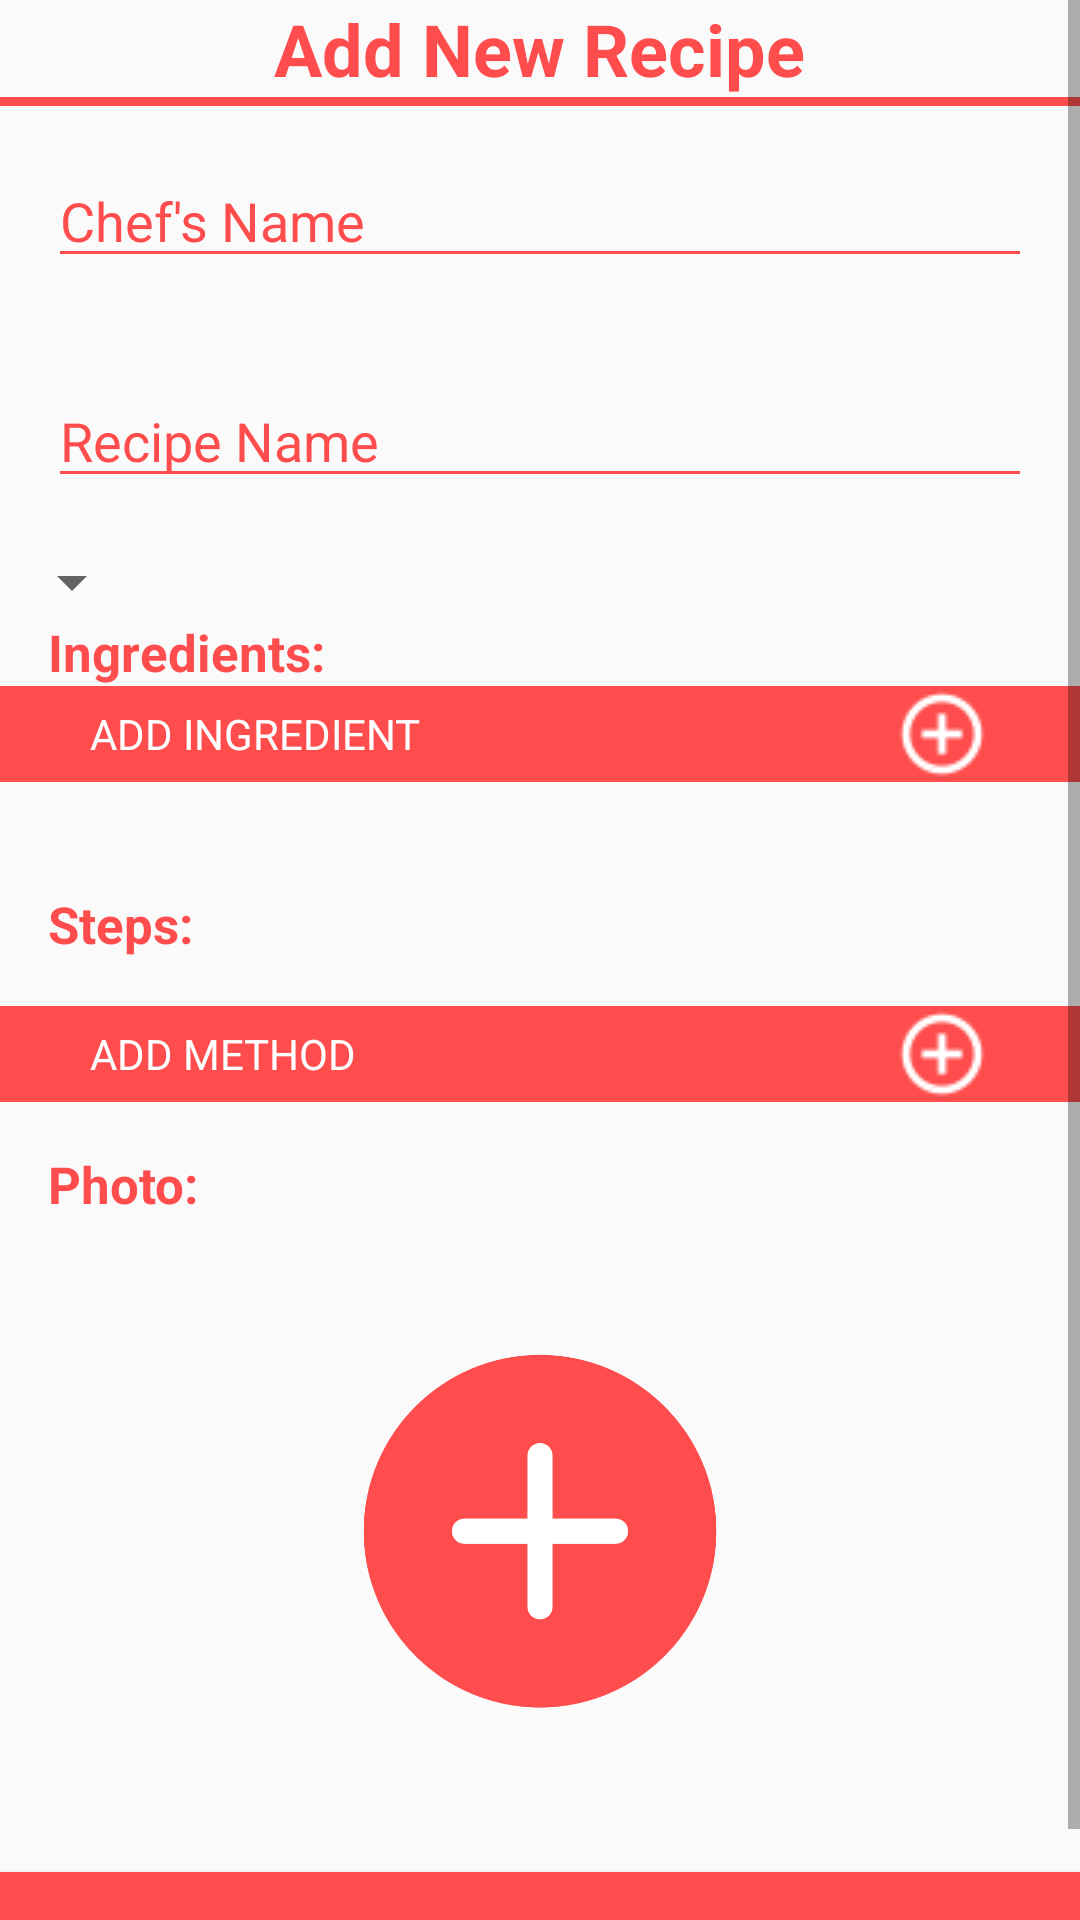

Where icons sit on this 1080*1920 app screen, as [x1, y1, x2, y2]:
iconsplus: [900, 692, 984, 776], [900, 1012, 984, 1096]
plus: [363, 1354, 717, 1708]
